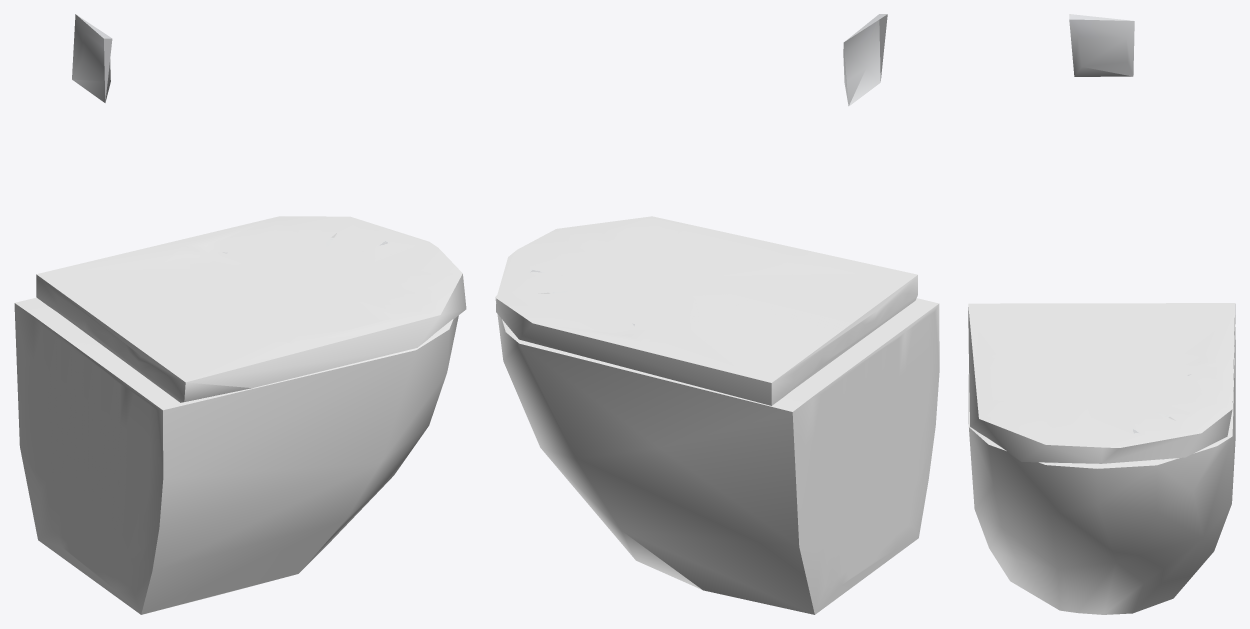
Rendered from WallToilet0001.obj.
3 renders of one model, left to right at view 1: azimuth 30°, elevation 25°; view 2: azimuth 150°, elevation 25°; view 3: azimuth 270°, elevation 25°, orthographic. The views are drawn at different scales.
Size of the model in its own units: 0.583 by 0.869 by 0.421.
Materials: 1 (1 with a texture image).
